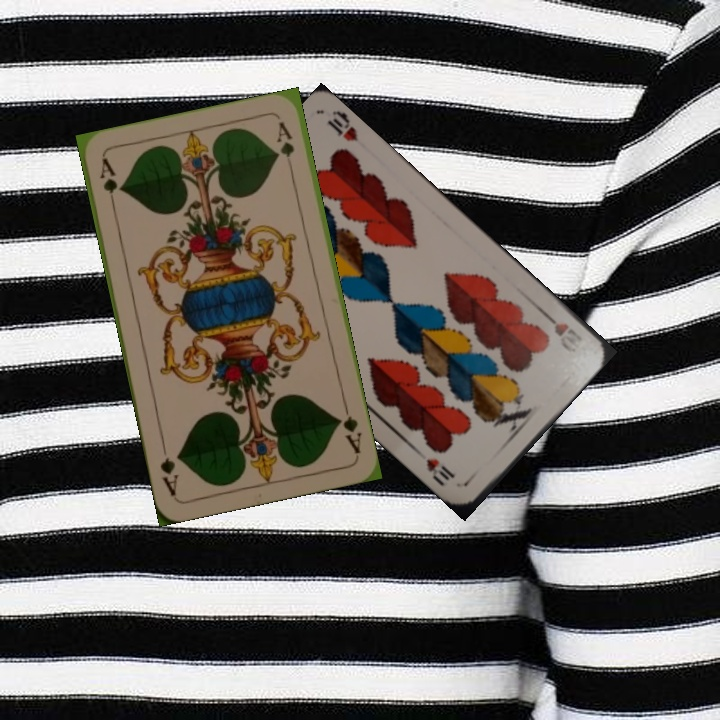GA: (333, 399, 364, 456), (96, 154, 120, 213)
H10: (538, 307, 585, 348)
